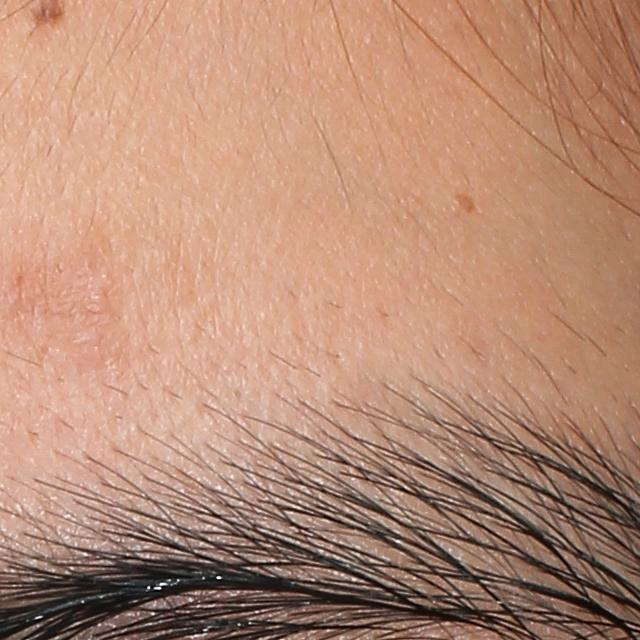melasma: (453, 191, 485, 218)
